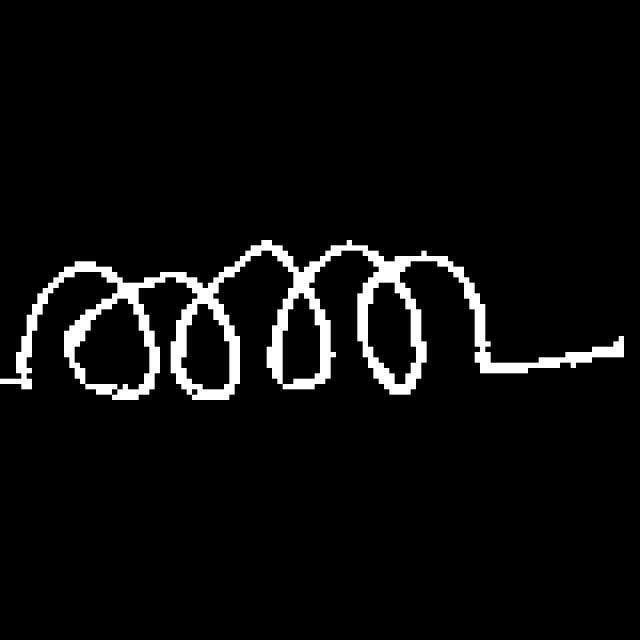inductor: (9, 231, 497, 414)
